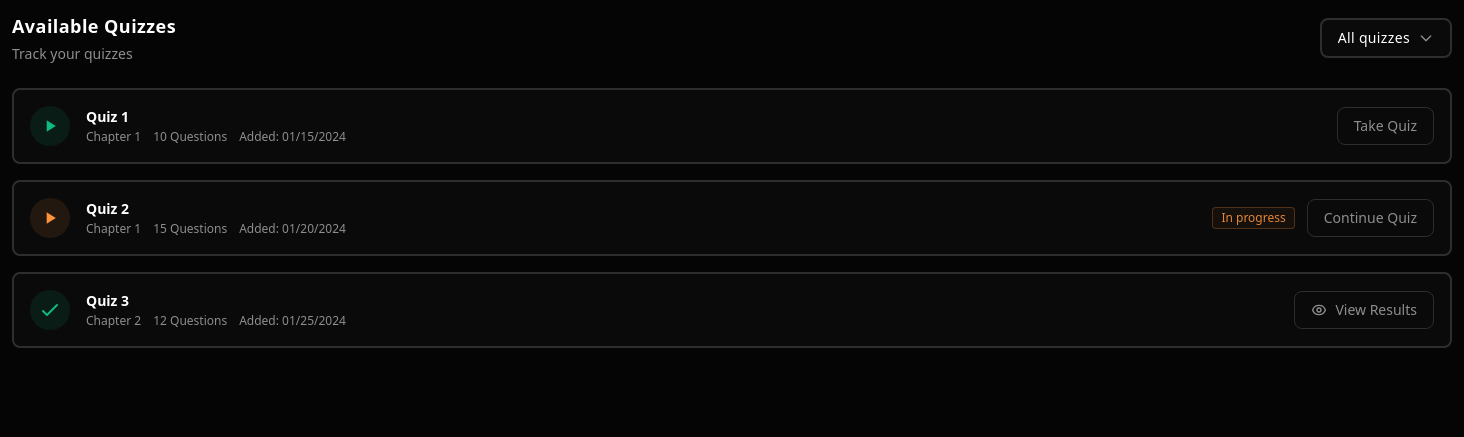
Scenario: StudentQuizList › View Mode Toggle › should switch to 'byChapter' view mode
Expected: the heading "Quiz 1" is shown, [86,107,129,126]
Note: Open dropdown
Click the button with aria-label "View mode". click: [1386, 38]
box: [1320,18,1452,58]
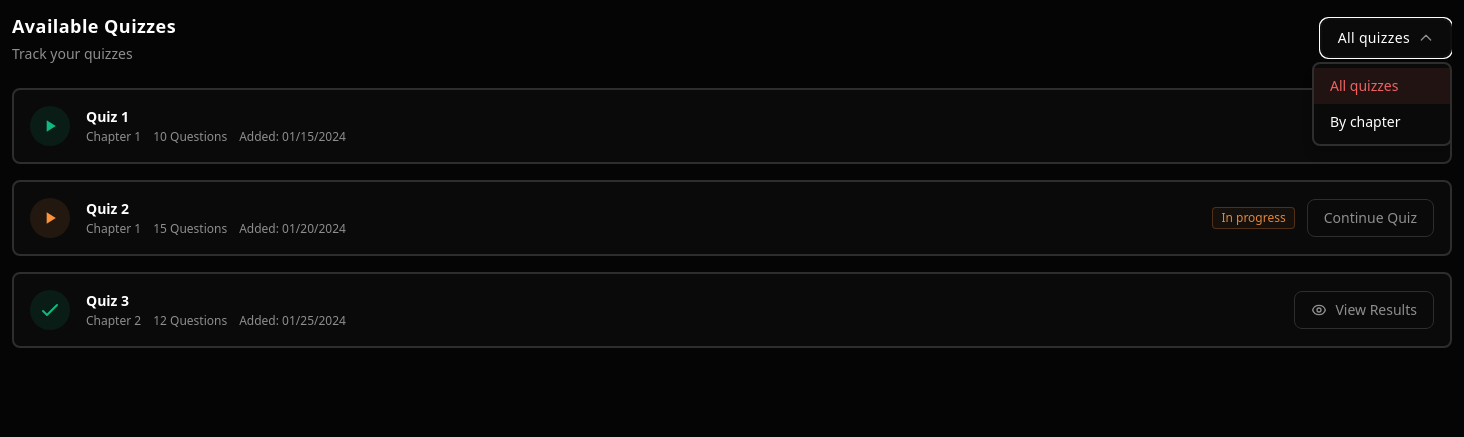
Note: Click "By chapter" option
Click the button "By chapter". click: [1382, 122]
box: [1314,104,1450,140]
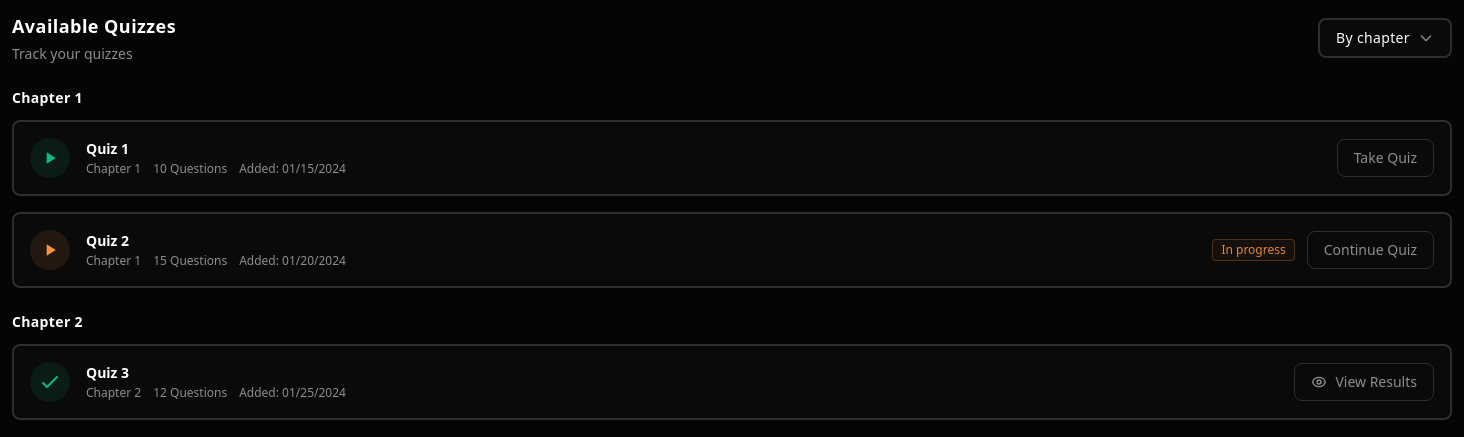
Result: the button with aria-label "View mode" reads "By chapter" at [1318,18,1452,58]
